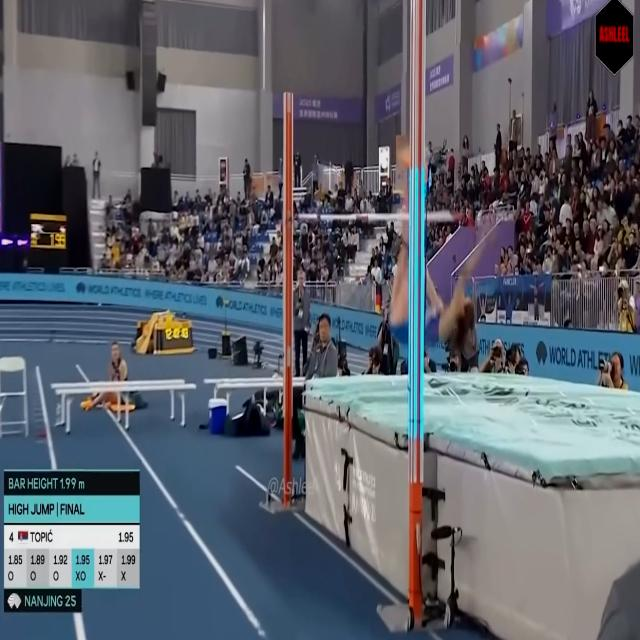land: (389, 146, 478, 346)
